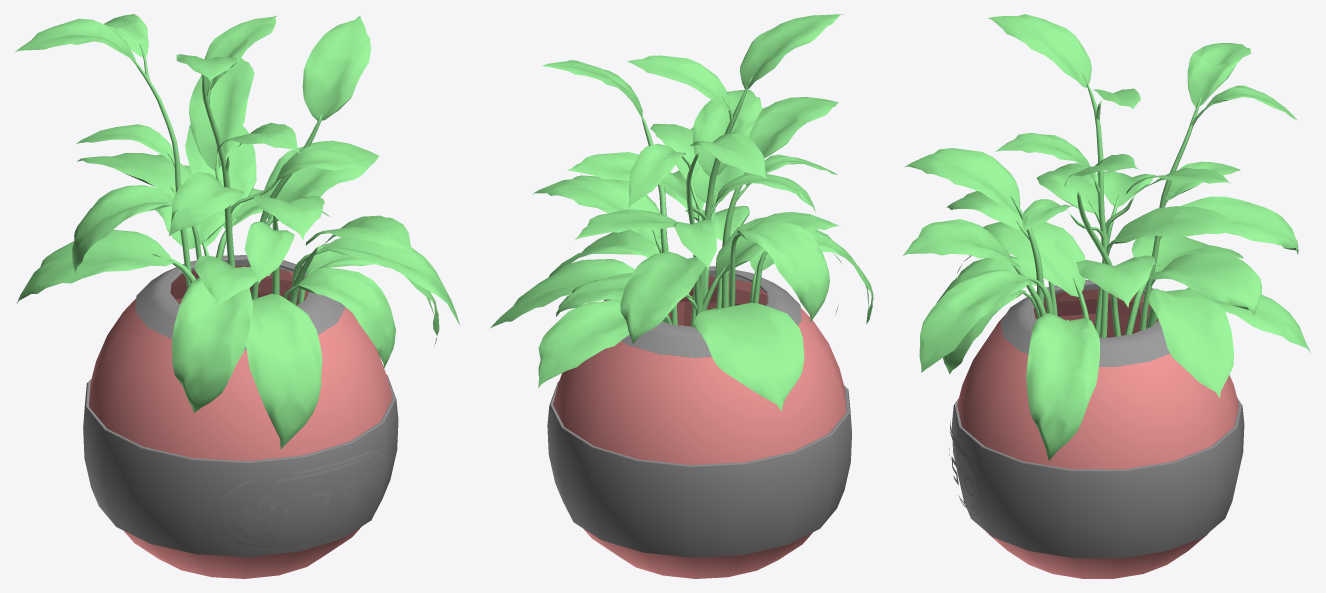
The model's file is S_Evni_Wlbl_Botany_01a.gltf.
3 views of the same model, side by side, from view 1: azimuth 30°, elevation 25°; view 2: azimuth 150°, elevation 25°; view 3: azimuth 270°, elevation 25° (orthographic). The views are drawn at different scales.
Parts seen in each view (by area): view 1: S_Evni_Wlbl_Botany_01a; view 2: S_Evni_Wlbl_Botany_01a; view 3: S_Evni_Wlbl_Botany_01a.
Boxes of the visible parts, x1=… form: S_Evni_Wlbl_Botany_01a: x1=15, y1=14, x2=459, y2=578; S_Evni_Wlbl_Botany_01a: x1=490, y1=14, x2=873, y2=578; S_Evni_Wlbl_Botany_01a: x1=903, y1=14, x2=1310, y2=578.
Size of the model in its own units: 0.2037 by 0.3167 by 0.2368.
